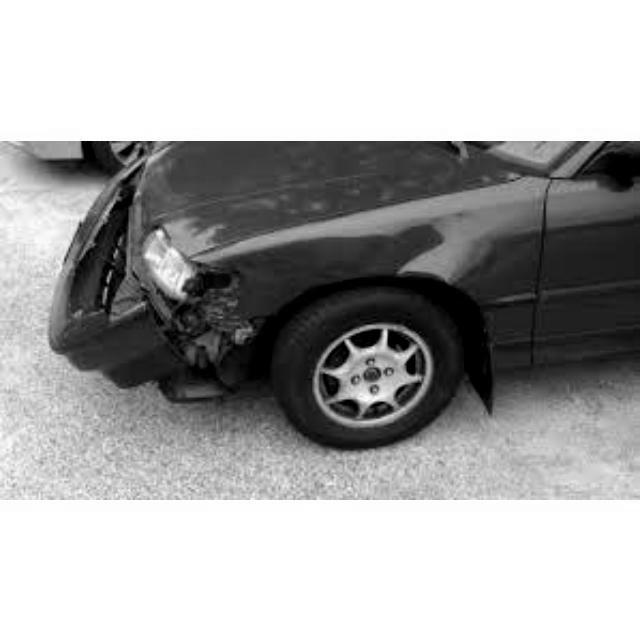fender-dent: (335, 185, 516, 315)
front-bumper-dent: (59, 222, 208, 367)
